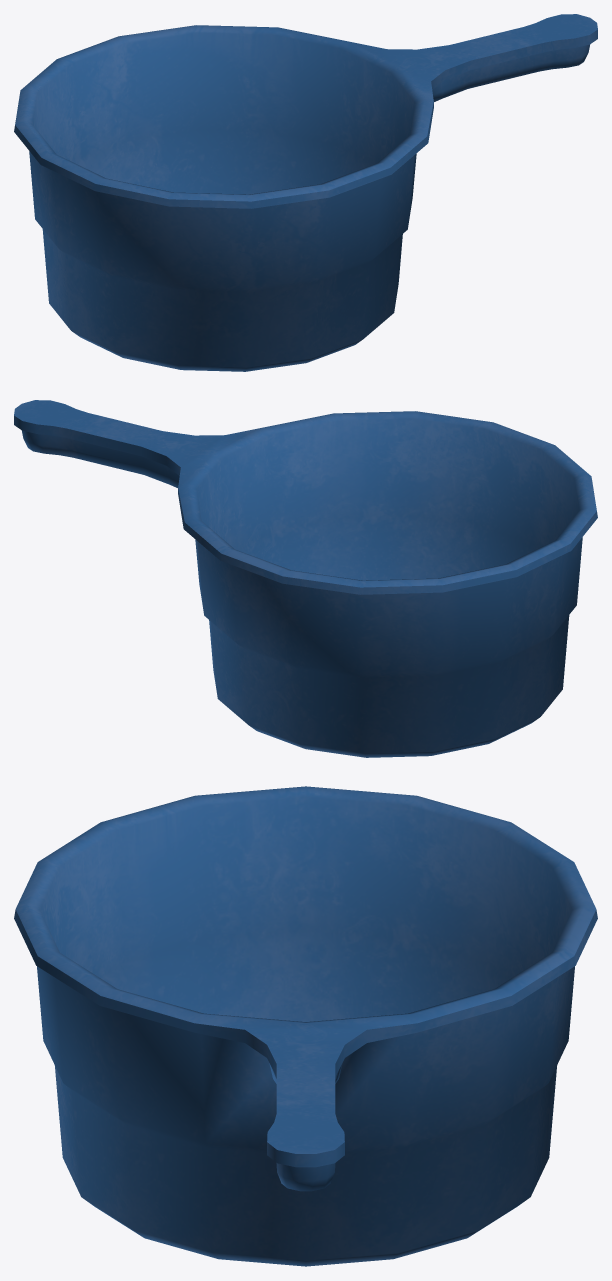
File: dipper.FBX
3 views of the same model, one above another, from view 1: azimuth 30°, elevation 25°; view 2: azimuth 150°, elevation 25°; view 3: azimuth 270°, elevation 25° (orthographic). The views are drawn at different scales.
Parts seen in each view (by area): view 1: dipper; view 2: dipper; view 3: dipper.
Part boxes in pixels (x1,y1,x2,y2): dipper: (14, 14, 597, 371); dipper: (14, 400, 597, 757); dipper: (14, 786, 597, 1266).
Bounding box in the file's own units: 29.93 × 9.93 × 19.84.
Materials: 1 (1 with a texture image).
